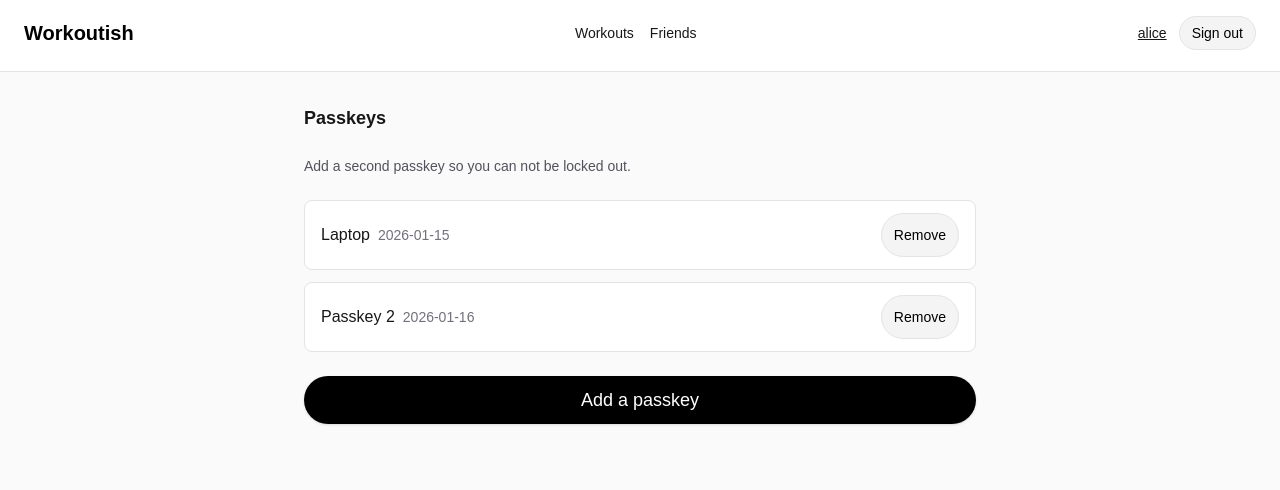
shows a generic alert for other failures
Click the button "Add a passkey": (640, 400) [304,376,976,424]
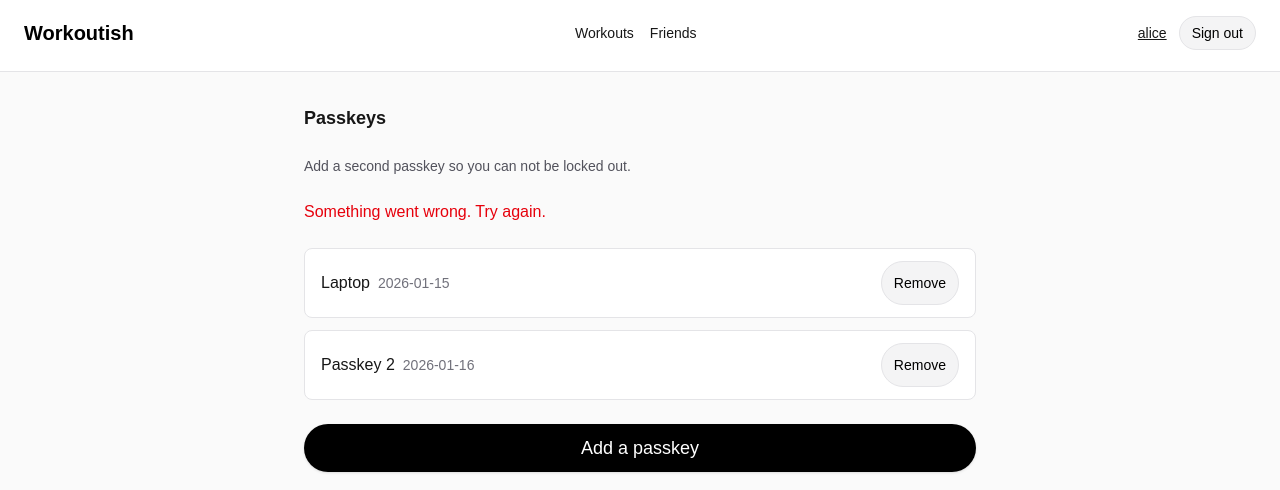
Check: the message reads "Something went wrong. Try again.", box [304,203,546,220]
